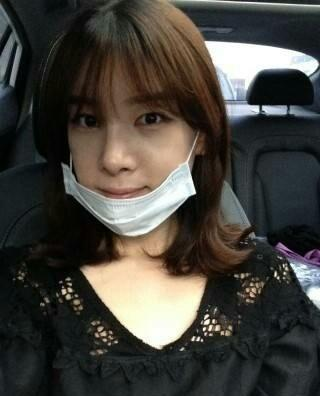WRONG: (57, 84, 207, 234)
